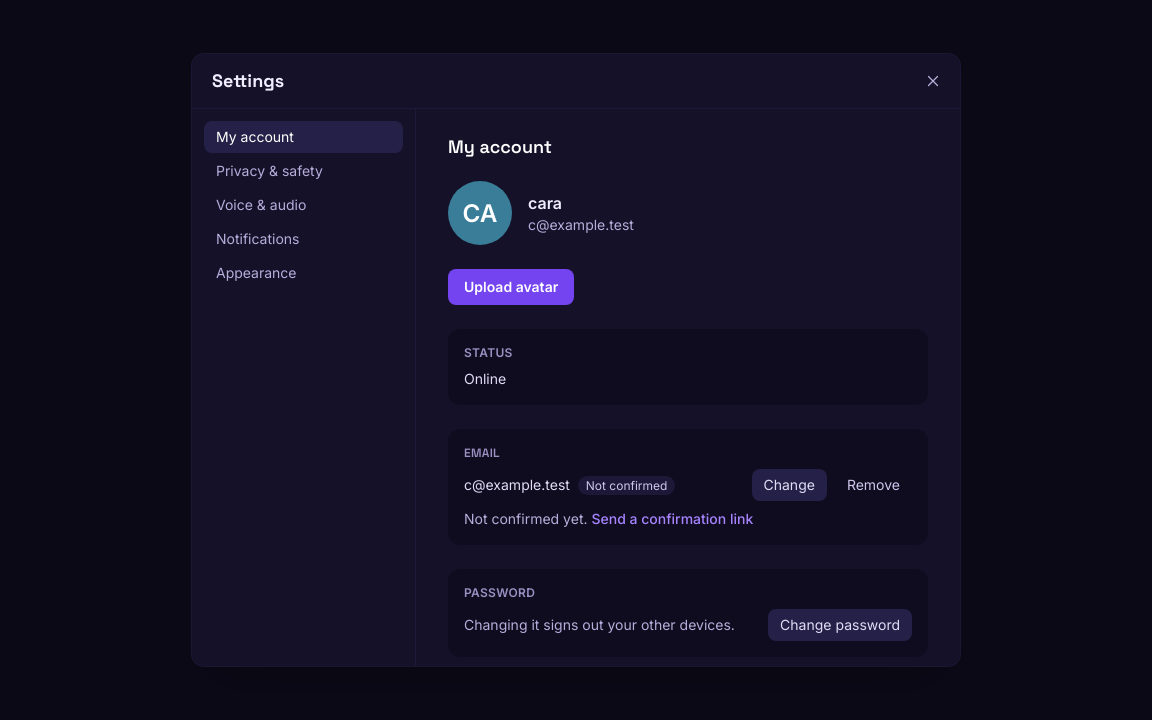
Test: success hands back the new token, closes, and says other devices were signed out
Click the button "Change password".
click(840, 625)  # box [768, 609, 912, 641]
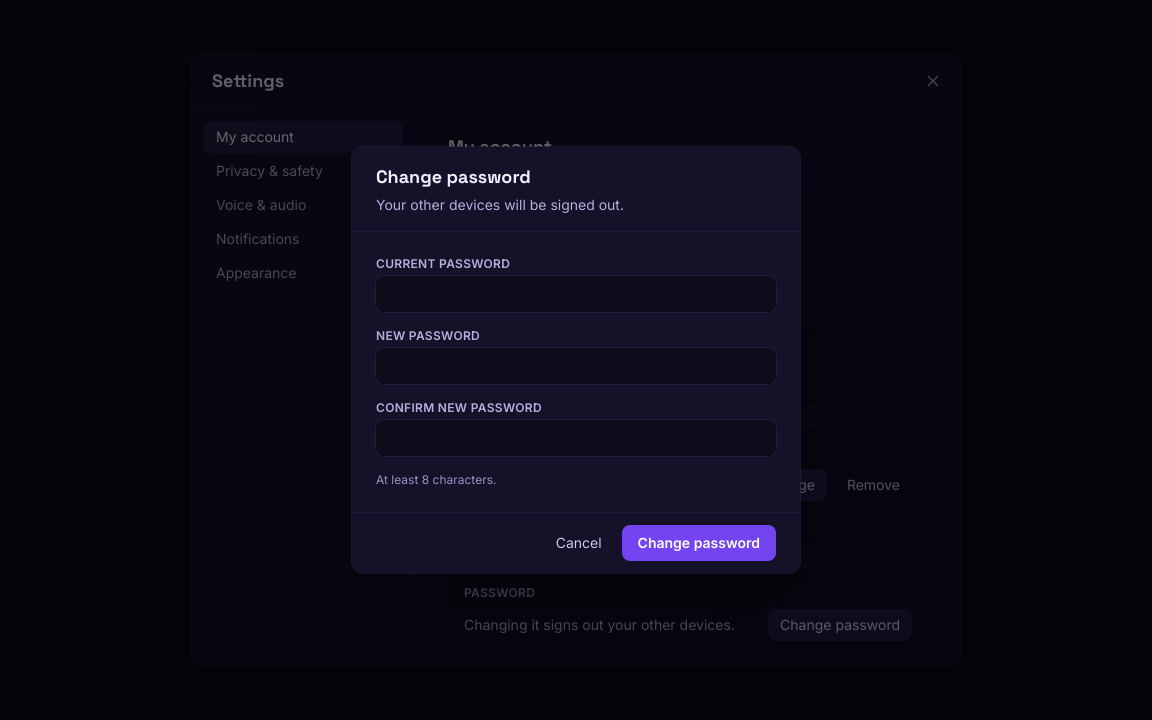
Type "old-password" into the password field labelled "Current password".
click(576, 294); type("old-password")  # box [376, 276, 776, 312]
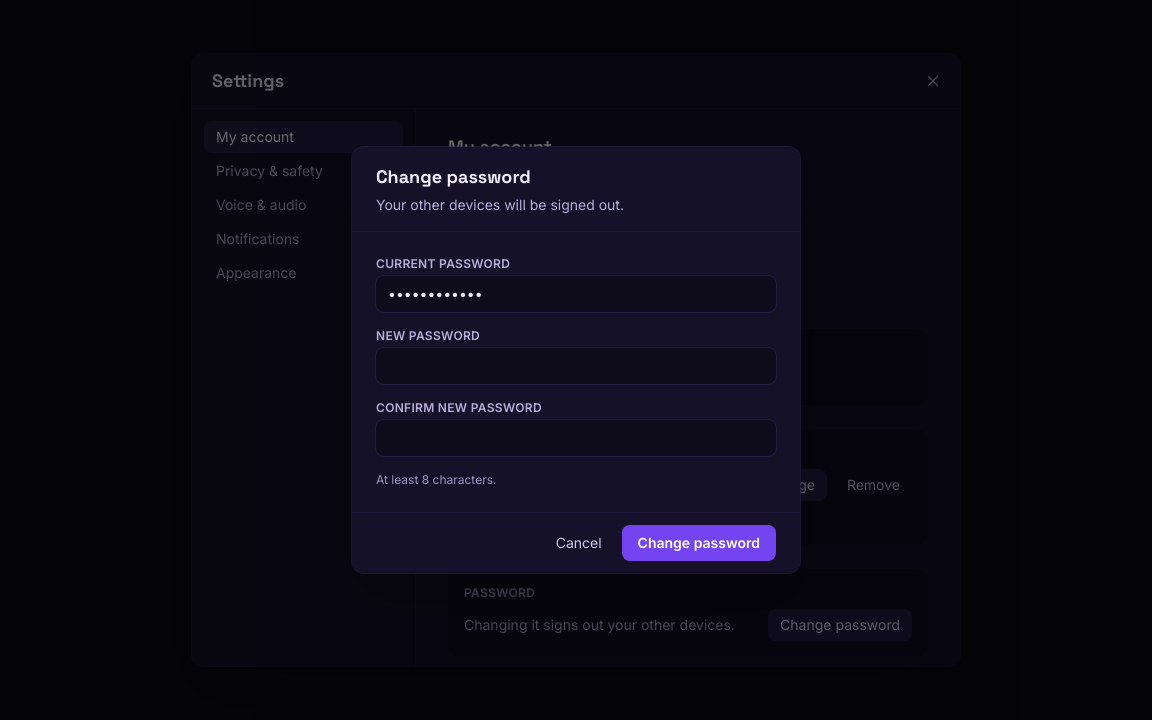
Type "a-new-password" into the password field labelled "New password".
click(576, 366); type("a-new-password")  # box [376, 348, 776, 384]
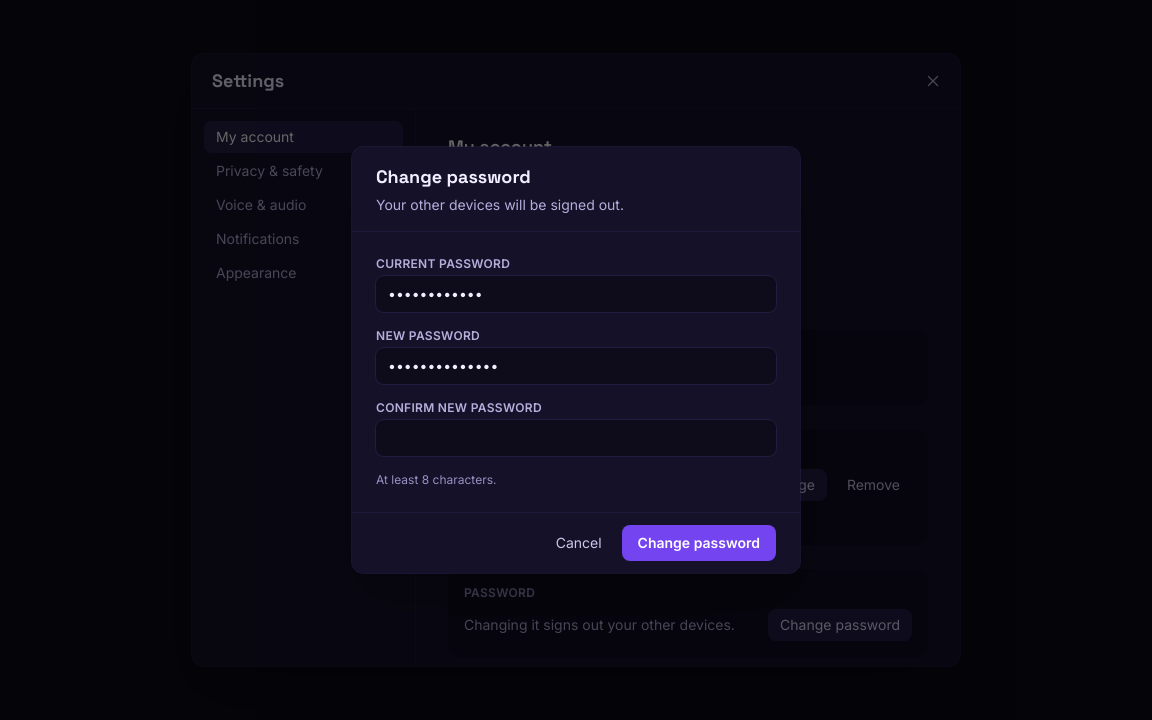
Type "a-new-password" into the password field labelled "Confirm new password".
click(576, 438); type("a-new-password")  # box [376, 420, 776, 456]
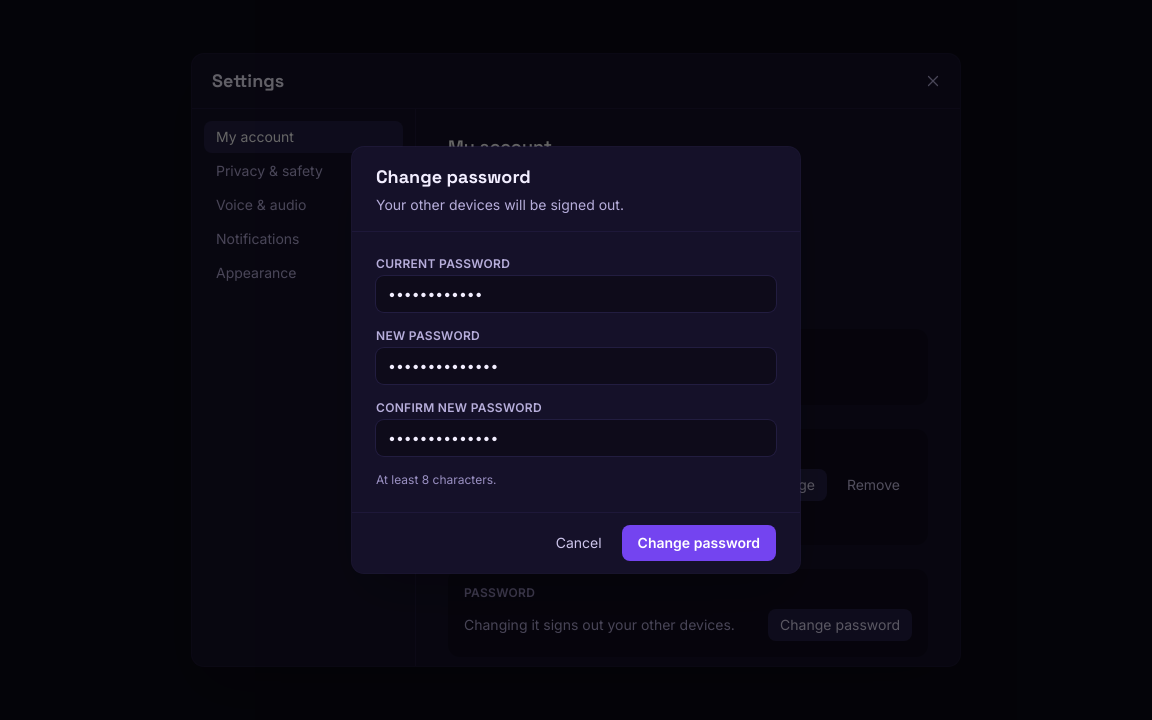
Click the button "Change password".
click(699, 543)  # box [622, 525, 776, 561]
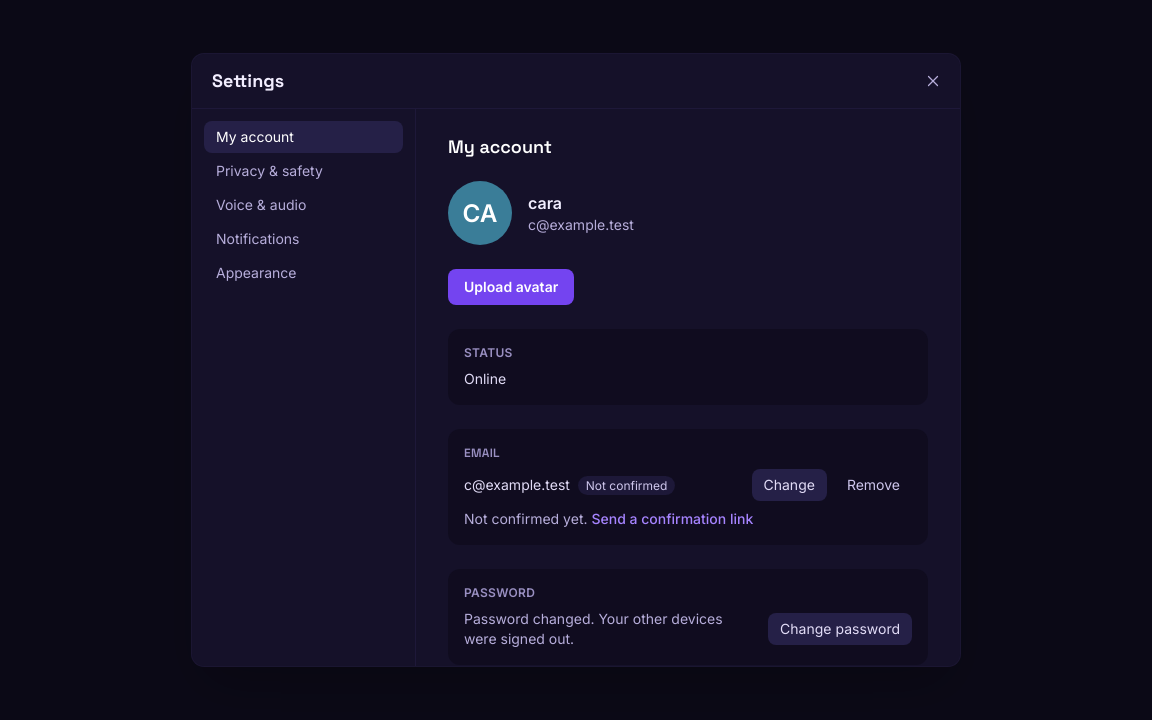
Now the text "Password changed. Your other devices were signed out." is shown, box [464, 609, 756, 649]
